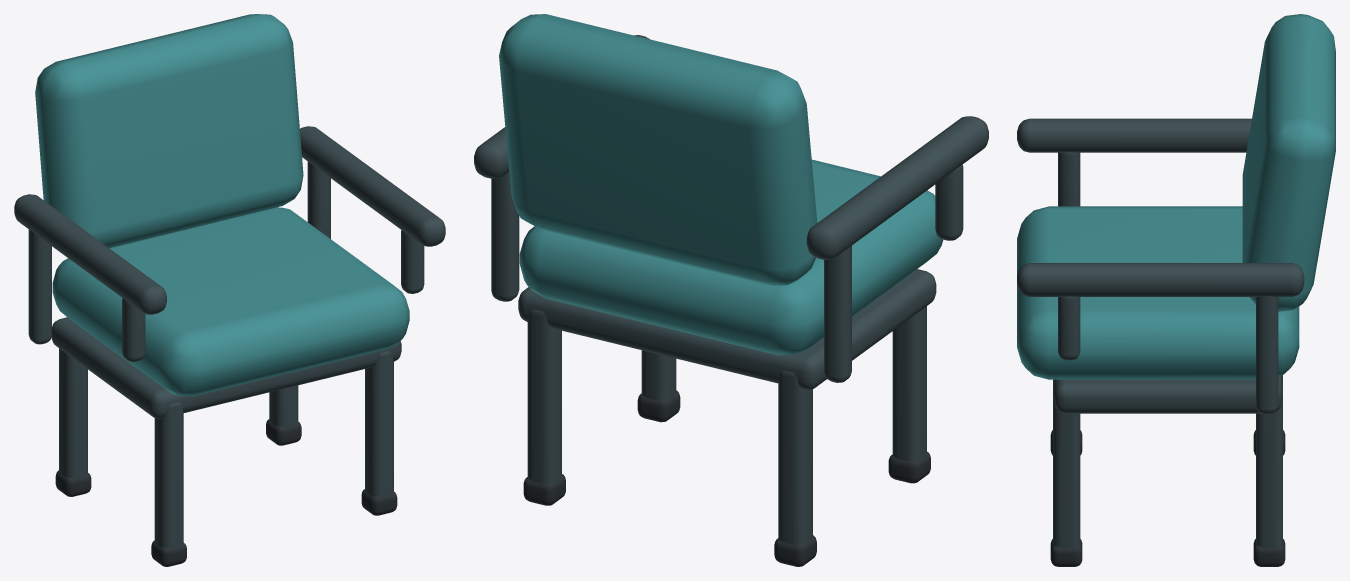
Rendered from HotelTogether-LobbyChair.glb.
The picture shows the model from 3 angles, left to right: view 1: azimuth 30°, elevation 25°; view 2: azimuth 150°, elevation 25°; view 3: azimuth 270°, elevation 25°; orthographic projection. The views are drawn at different scales.
Visible parts, largest first — view 1: Chair_Back, Chair_Seat, Chair_Underframe, Chair_Arm, Chair_Arm.001, Chair_Leg, Chair_Leg.002, Chair_Leg.001, Chair_ArmPost, Chair_ArmPost.001, Chair_ArmFront, Chair_ArmFront.001 (+5 smaller); view 2: Chair_Back, Chair_Seat, Chair_Underframe, Chair_Arm, Chair_Leg.001, Chair_Leg.003, Chair_Leg, Chair_ArmPost, Chair_ArmPost.001, Chair_ArmFront, Chair_Leg.002, Chair_Arm.001 (+4 smaller); view 3: Chair_Seat, Chair_Back, Chair_Arm.001, Chair_Arm, Chair_Underframe, Chair_Leg.002, Chair_Leg.003, Chair_ArmPost.001, Chair_ArmFront.001, Chair_ArmFront, Chair_Foot.002, Chair_Foot.003.
Boxes of the visible parts, x1,y1,x2,y2 form: Chair_Back: (35, 14, 303, 248); Chair_Seat: (52, 207, 409, 396); Chair_Underframe: (51, 317, 401, 418); Chair_Arm: (14, 194, 166, 314); Chair_Arm.001: (300, 126, 445, 246); Chair_Leg: (154, 402, 183, 548); Chair_Leg.002: (365, 351, 393, 496); Chair_Leg.001: (59, 348, 87, 478); Chair_ArmPost: (28, 229, 51, 344); Chair_ArmPost.001: (307, 161, 330, 238); Chair_ArmFront: (122, 298, 145, 361); Chair_ArmFront.001: (401, 230, 424, 293); Chair_Back: (499, 14, 817, 285); Chair_Seat: (519, 159, 943, 355); Chair_Underframe: (518, 269, 936, 389); Chair_Arm: (806, 116, 988, 259); Chair_Leg.001: (778, 370, 812, 544); Chair_Leg.003: (527, 309, 561, 483); Chair_Leg: (892, 306, 926, 460); Chair_ArmPost: (824, 245, 851, 382); Chair_ArmPost.001: (491, 172, 519, 301); Chair_ArmFront: (935, 164, 963, 240); Chair_Leg.002: (641, 350, 676, 399); Chair_Arm.001: (474, 35, 649, 178); Chair_Seat: (1017, 206, 1299, 379); Chair_Back: (1242, 14, 1335, 311); Chair_Arm.001: (1017, 263, 1304, 296); Chair_Arm: (1017, 118, 1251, 152); Chair_Underframe: (1054, 376, 1281, 413); Chair_Leg.002: (1053, 388, 1080, 547); Chair_Leg.003: (1256, 389, 1282, 547); Chair_ArmPost.001: (1256, 296, 1278, 414); Chair_ArmFront.001: (1058, 296, 1080, 360); Chair_ArmFront: (1058, 152, 1080, 206); Chair_Foot.002: (1050, 539, 1082, 566); Chair_Foot.003: (1253, 539, 1285, 566).
Size of the model in its own units: 0.755 by 0.9837 by 0.6441.
